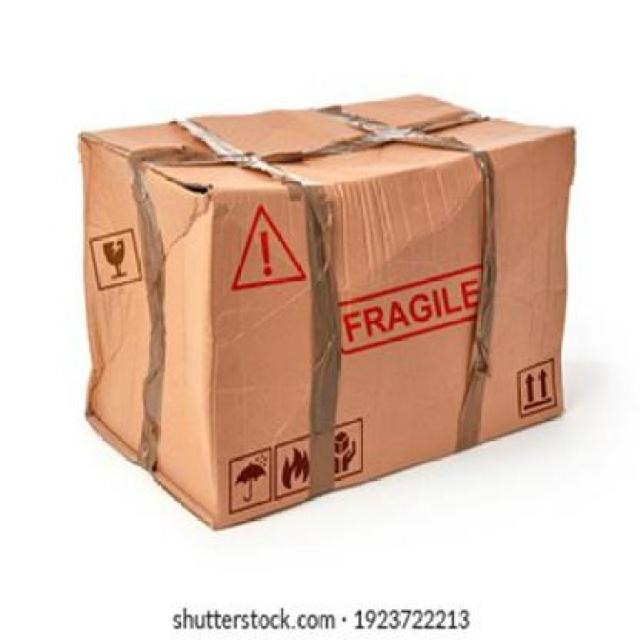defect: (68, 92, 597, 536)
